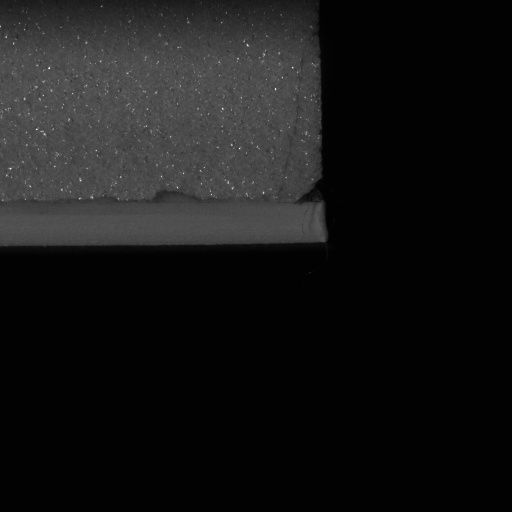bengque: (288, 180, 328, 209)
